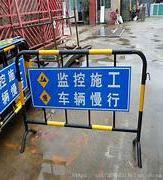sign: (27, 65, 132, 111)
